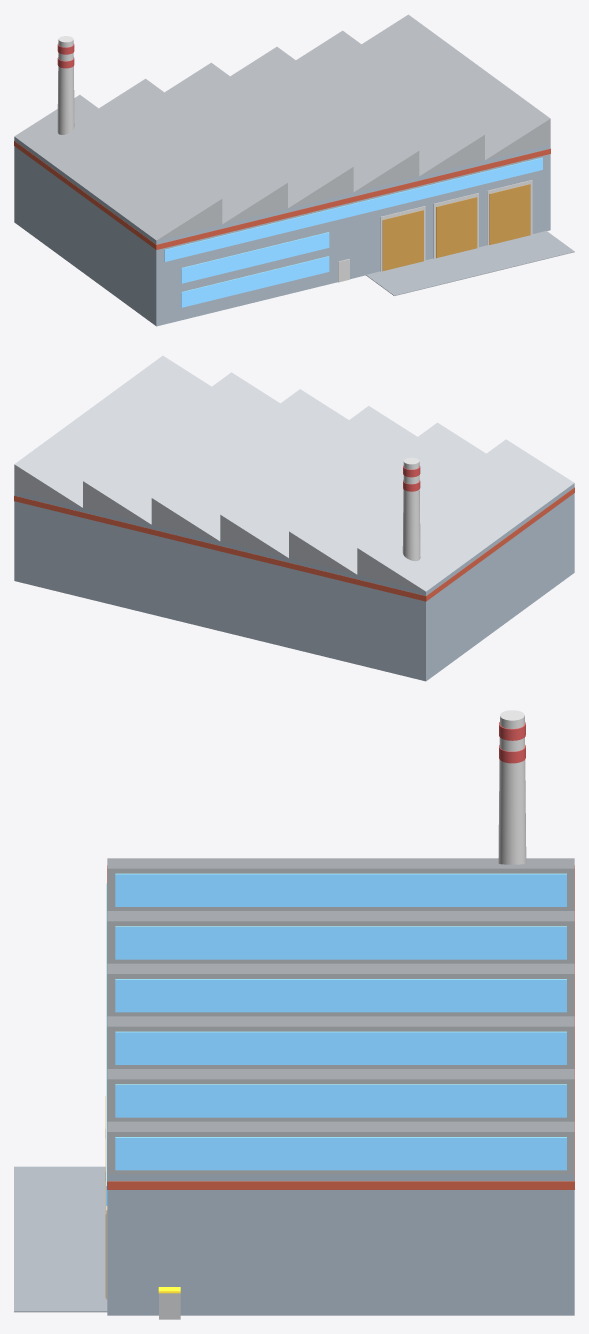
Rendered from Load-Industrial.glb.
3 renders of one model, top to bottom at view 1: azimuth 30°, elevation 25°; view 2: azimuth 150°, elevation 25°; view 3: azimuth 270°, elevation 25°, orthographic. The views are drawn at different scales.
Parts seen in each view (by area): view 1: roof_tooth (×6), hall, loading_door (×3), apron, ribbon_window, window (×2), stripe, door_frame (×3), chimney; view 2: roof_tooth (×6), hall, stripe, chimney; view 3: skylight (×6), hall, roof_tooth (×6), apron, stripe, chimney.
Part boxes in pixels (bbox=[...]): roof_tooth (×6): bbox=[14, 14, 550, 240]; hall: bbox=[14, 137, 550, 326]; loading_door (×3): bbox=[382, 184, 530, 270]; apron: bbox=[366, 231, 574, 295]; ribbon_window: bbox=[164, 157, 542, 261]; window (×2): bbox=[181, 232, 329, 307]; stripe: bbox=[14, 141, 550, 249]; door_frame (×3): bbox=[380, 180, 532, 271]; chimney: bbox=[57, 36, 74, 134]; roof_tooth (×6): bbox=[14, 355, 574, 591]; hall: bbox=[14, 483, 574, 681]; stripe: bbox=[14, 487, 574, 601]; chimney: bbox=[402, 457, 420, 561]; skylight (×6): bbox=[115, 873, 566, 1170]; hall: bbox=[107, 1174, 574, 1315]; roof_tooth (×6): bbox=[107, 858, 574, 1174]; apron: bbox=[14, 1166, 107, 1312]; stripe: bbox=[107, 865, 574, 1189]; chimney: bbox=[498, 710, 526, 864].
Bounding box in the file's own units: 48.68 × 22 × 36.02.
